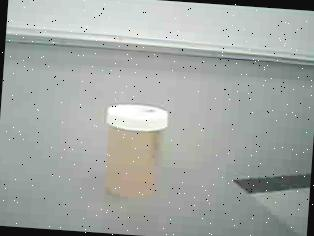Bottle B: (91, 93, 176, 209)
